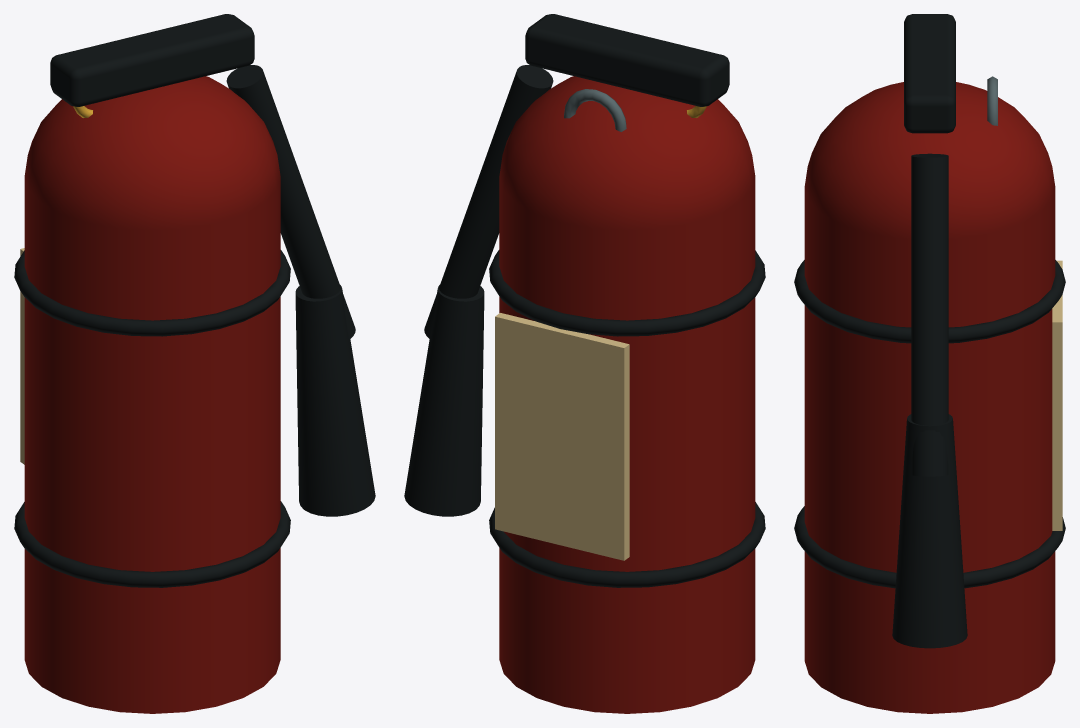
Rendered from Extinguisher.obj.
The picture shows the model from 3 angles, left to right: view 1: azimuth 30°, elevation 25°; view 2: azimuth 150°, elevation 25°; view 3: azimuth 270°, elevation 25°; orthographic projection. The views are drawn at different scales.
Parts seen in each view (by area): view 1: Extinguisher; view 2: Extinguisher; view 3: Extinguisher.
Part boxes in pixels (box(x1,y1,x2,y2)): Extinguisher: box(14, 14, 375, 713); Extinguisher: box(404, 14, 765, 713); Extinguisher: box(794, 14, 1065, 713).
Bounding box in the file's own units: 0.3659 × 0.64 × 0.26.
